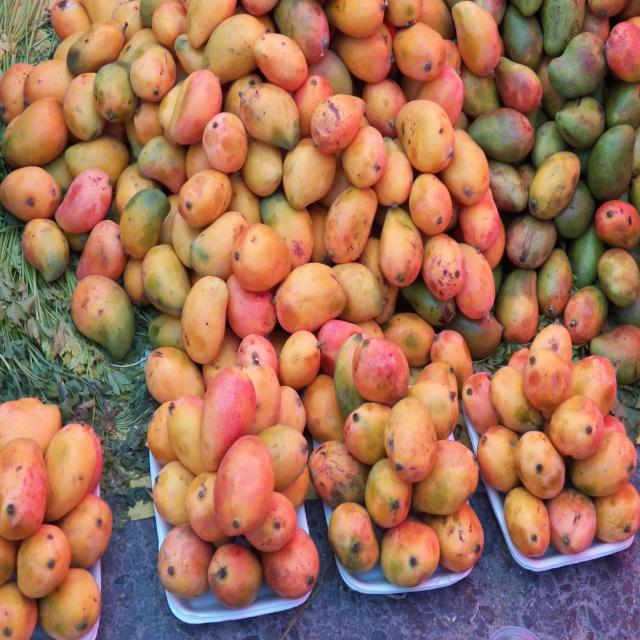mango: (211, 435, 276, 537), (199, 371, 257, 472), (41, 424, 100, 522), (70, 274, 136, 358), (410, 441, 479, 516), (0, 438, 49, 540), (202, 14, 269, 86), (157, 522, 216, 601), (1, 99, 68, 168), (188, 210, 252, 282), (40, 565, 102, 639), (259, 526, 319, 600), (396, 99, 454, 174), (276, 264, 338, 334), (230, 224, 292, 294), (166, 69, 223, 145), (238, 83, 300, 151), (16, 524, 72, 599), (379, 518, 439, 588), (351, 336, 408, 409), (182, 273, 228, 361), (54, 167, 114, 234), (324, 186, 374, 266), (440, 130, 491, 208), (207, 542, 265, 608), (528, 151, 582, 221), (452, 1, 502, 76), (140, 245, 192, 317), (119, 188, 171, 260), (548, 397, 606, 461), (515, 430, 567, 501), (546, 487, 598, 556), (503, 486, 552, 559), (144, 347, 205, 405), (0, 166, 61, 224), (282, 137, 331, 209), (378, 207, 421, 289), (453, 245, 498, 321), (494, 268, 540, 342), (331, 261, 383, 326), (178, 169, 233, 230), (392, 22, 446, 84), (252, 33, 306, 93), (75, 220, 127, 282), (21, 218, 71, 282), (344, 403, 392, 468), (422, 233, 466, 303), (201, 112, 249, 176), (494, 56, 544, 115), (408, 173, 452, 240), (130, 44, 178, 105), (341, 125, 385, 190), (430, 331, 474, 391), (563, 286, 609, 343), (596, 247, 640, 306), (536, 247, 574, 315), (383, 316, 432, 368), (278, 330, 321, 387)
